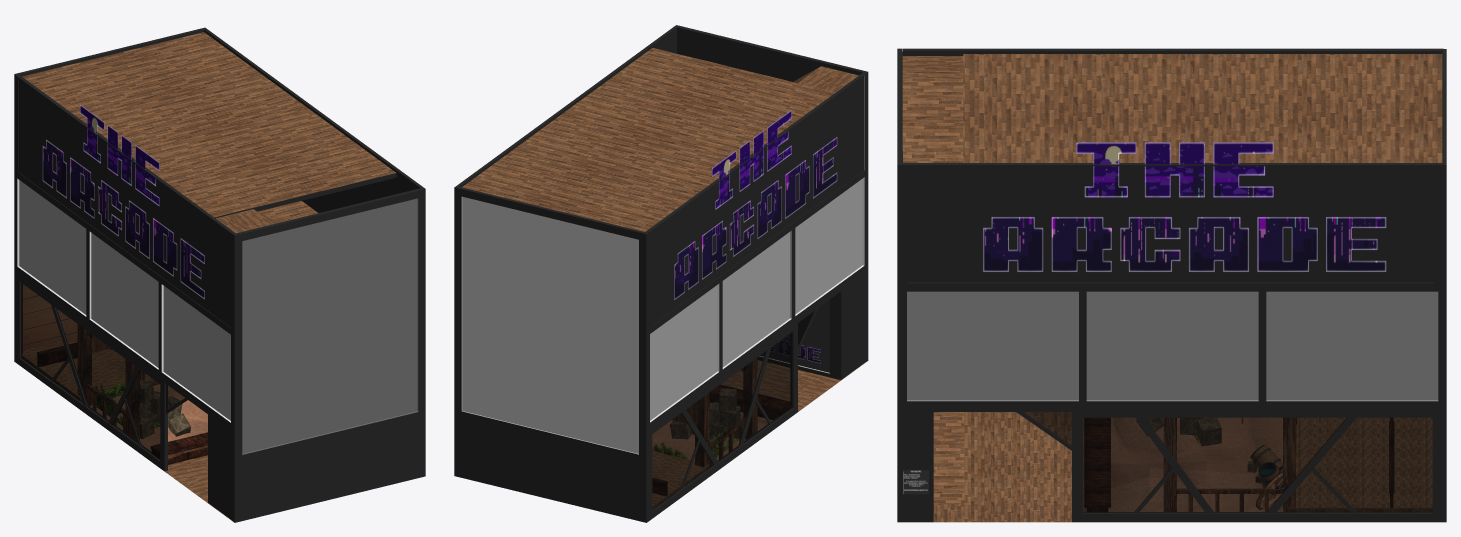
The picture shows the model from 3 angles, left to right: view 1: azimuth 30°, elevation 25°; view 2: azimuth 150°, elevation 25°; view 3: azimuth 270°, elevation 25°; orthographic projection. The views are drawn at different scales.
Visible parts, largest first — view 1: Plane, Plane.003, Plane.001, Cube.001, Cube; view 2: Plane, Plane.003, Plane.001, Cube.001; view 3: Plane, Plane.001, Plane.002, Cube.001, Cube.008.
Boxes of the visible parts, box(x1,y1,x2,y2) form: Plane: box(14, 27, 425, 522); Plane.003: box(42, 105, 204, 299); Plane.001: box(21, 324, 207, 451); Cube.001: box(151, 432, 207, 464); Cube: box(37, 342, 111, 366); Plane: box(454, 25, 868, 522); Plane.003: box(674, 110, 837, 299); Plane.001: box(652, 358, 772, 509); Cube.001: box(710, 385, 790, 419); Plane: box(897, 48, 1446, 522); Plane.001: box(1108, 418, 1432, 511); Plane.002: box(983, 142, 1386, 271); Cube.001: box(1084, 418, 1110, 512); Cube.008: box(1197, 418, 1221, 445).
Size of what is drawn, in the model's own units: 16 by 25.89 by 32.
Materials: 12 (12 with a texture image).
